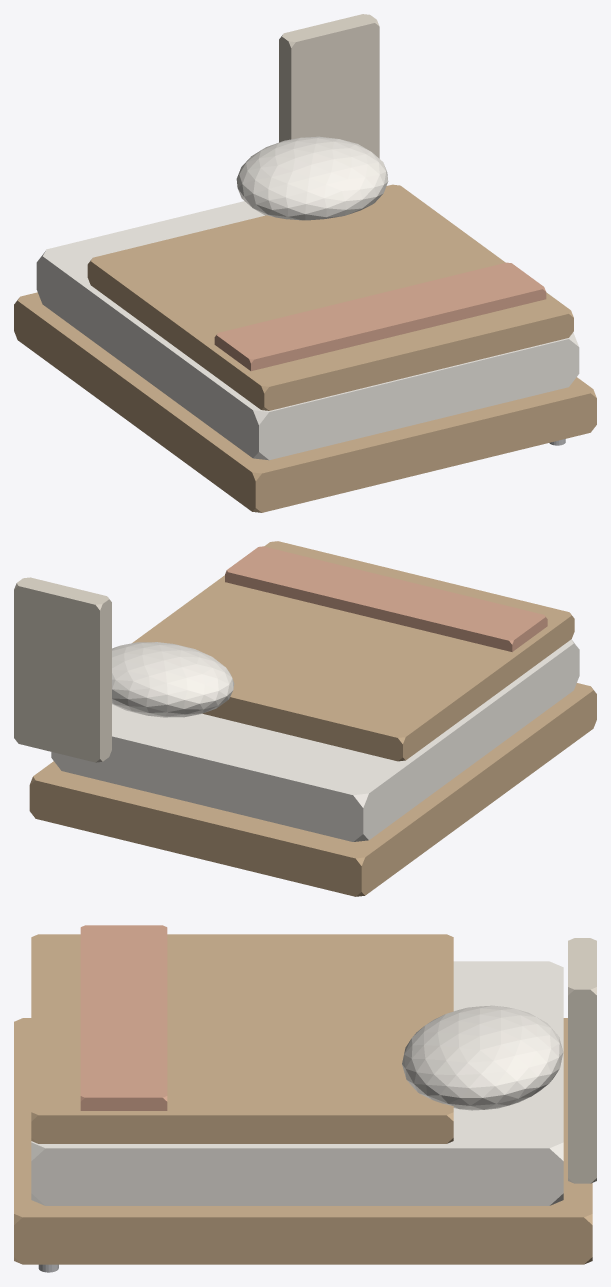
The model's file is bed_queen_medium.glb.
The picture shows the model from 3 angles, top to bottom: view 1: azimuth 30°, elevation 25°; view 2: azimuth 150°, elevation 25°; view 3: azimuth 270°, elevation 25°; orthographic projection. The views are drawn at different scales.
Parts seen in each view (by area): view 1: FABRIC_SAND_duvet, FABRIC_LIGHT_mattress, WOOD_DARK_frame, FABRIC_ACCENT_throw, FABRIC_MAIN_headboard_panel, FABRIC_LIGHT_pillow; view 2: FABRIC_SAND_duvet, FABRIC_LIGHT_mattress, WOOD_DARK_frame, FABRIC_MAIN_headboard_panel, FABRIC_ACCENT_throw, FABRIC_LIGHT_pillow; view 3: FABRIC_SAND_duvet, FABRIC_LIGHT_mattress, WOOD_DARK_frame, FABRIC_ACCENT_throw, FABRIC_LIGHT_pillow, FABRIC_MAIN_headboard_panel.
Boxes of the visible parts, box(x1,y1,x2,y2) form: FABRIC_SAND_duvet: box(87, 184, 573, 410); FABRIC_LIGHT_mattress: box(36, 201, 579, 460); WOOD_DARK_frame: box(14, 292, 596, 512); FABRIC_ACCENT_throw: box(214, 262, 546, 371); FABRIC_MAIN_headboard_panel: box(279, 14, 379, 158); FABRIC_LIGHT_pillow: box(236, 136, 388, 220); FABRIC_SAND_duvet: box(132, 541, 574, 761); FABRIC_LIGHT_mattress: box(51, 639, 579, 841); WOOD_DARK_frame: box(29, 683, 596, 896); FABRIC_MAIN_headboard_panel: box(14, 577, 111, 762); FABRIC_ACCENT_throw: box(225, 546, 547, 651); FABRIC_LIGHT_pillow: box(112, 642, 234, 717); FABRIC_SAND_duvet: box(31, 934, 453, 1143); FABRIC_LIGHT_mattress: box(31, 961, 563, 1205); WOOD_DARK_frame: box(14, 1018, 592, 1264); FABRIC_ACCENT_throw: box(80, 925, 167, 1110); FABRIC_LIGHT_pillow: box(402, 1005, 563, 1110); FABRIC_MAIN_headboard_panel: box(568, 938, 596, 1183).
Size of the model in its own units: 1.7 by 1.15 by 2.01.
